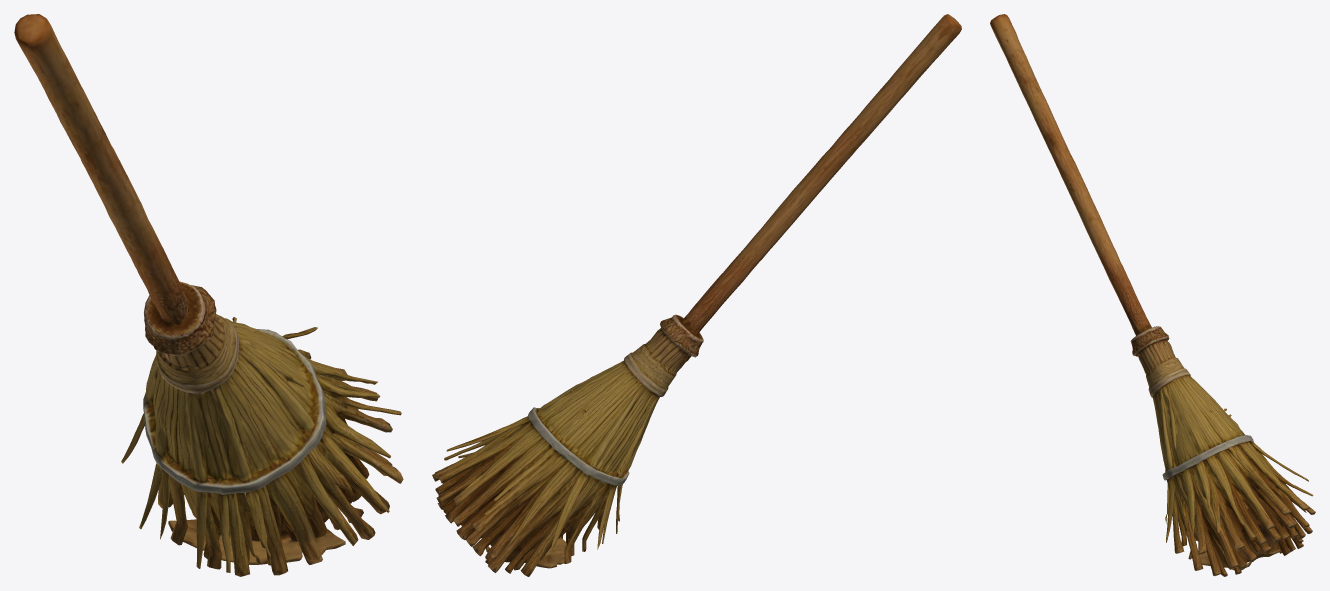
Rendered from broom.glb.
3 views of the same model, side by side, from view 1: azimuth 30°, elevation 25°; view 2: azimuth 150°, elevation 25°; view 3: azimuth 270°, elevation 25° (orthographic). The views are drawn at different scales.
Visible parts, largest first — view 1: tripo_node_52868476-2b7e-49b6-b482-893541e84179; view 2: tripo_node_52868476-2b7e-49b6-b482-893541e84179; view 3: tripo_node_52868476-2b7e-49b6-b482-893541e84179.
Part boxes in pixels (x1,y1,x2,y2): tripo_node_52868476-2b7e-49b6-b482-893541e84179: (14,14,403,576); tripo_node_52868476-2b7e-49b6-b482-893541e84179: (432,14,961,576); tripo_node_52868476-2b7e-49b6-b482-893541e84179: (990,14,1315,576).
Bounding box in the file's own units: 0.7853 × 1 × 0.6931.
1 material, 1 textured.
